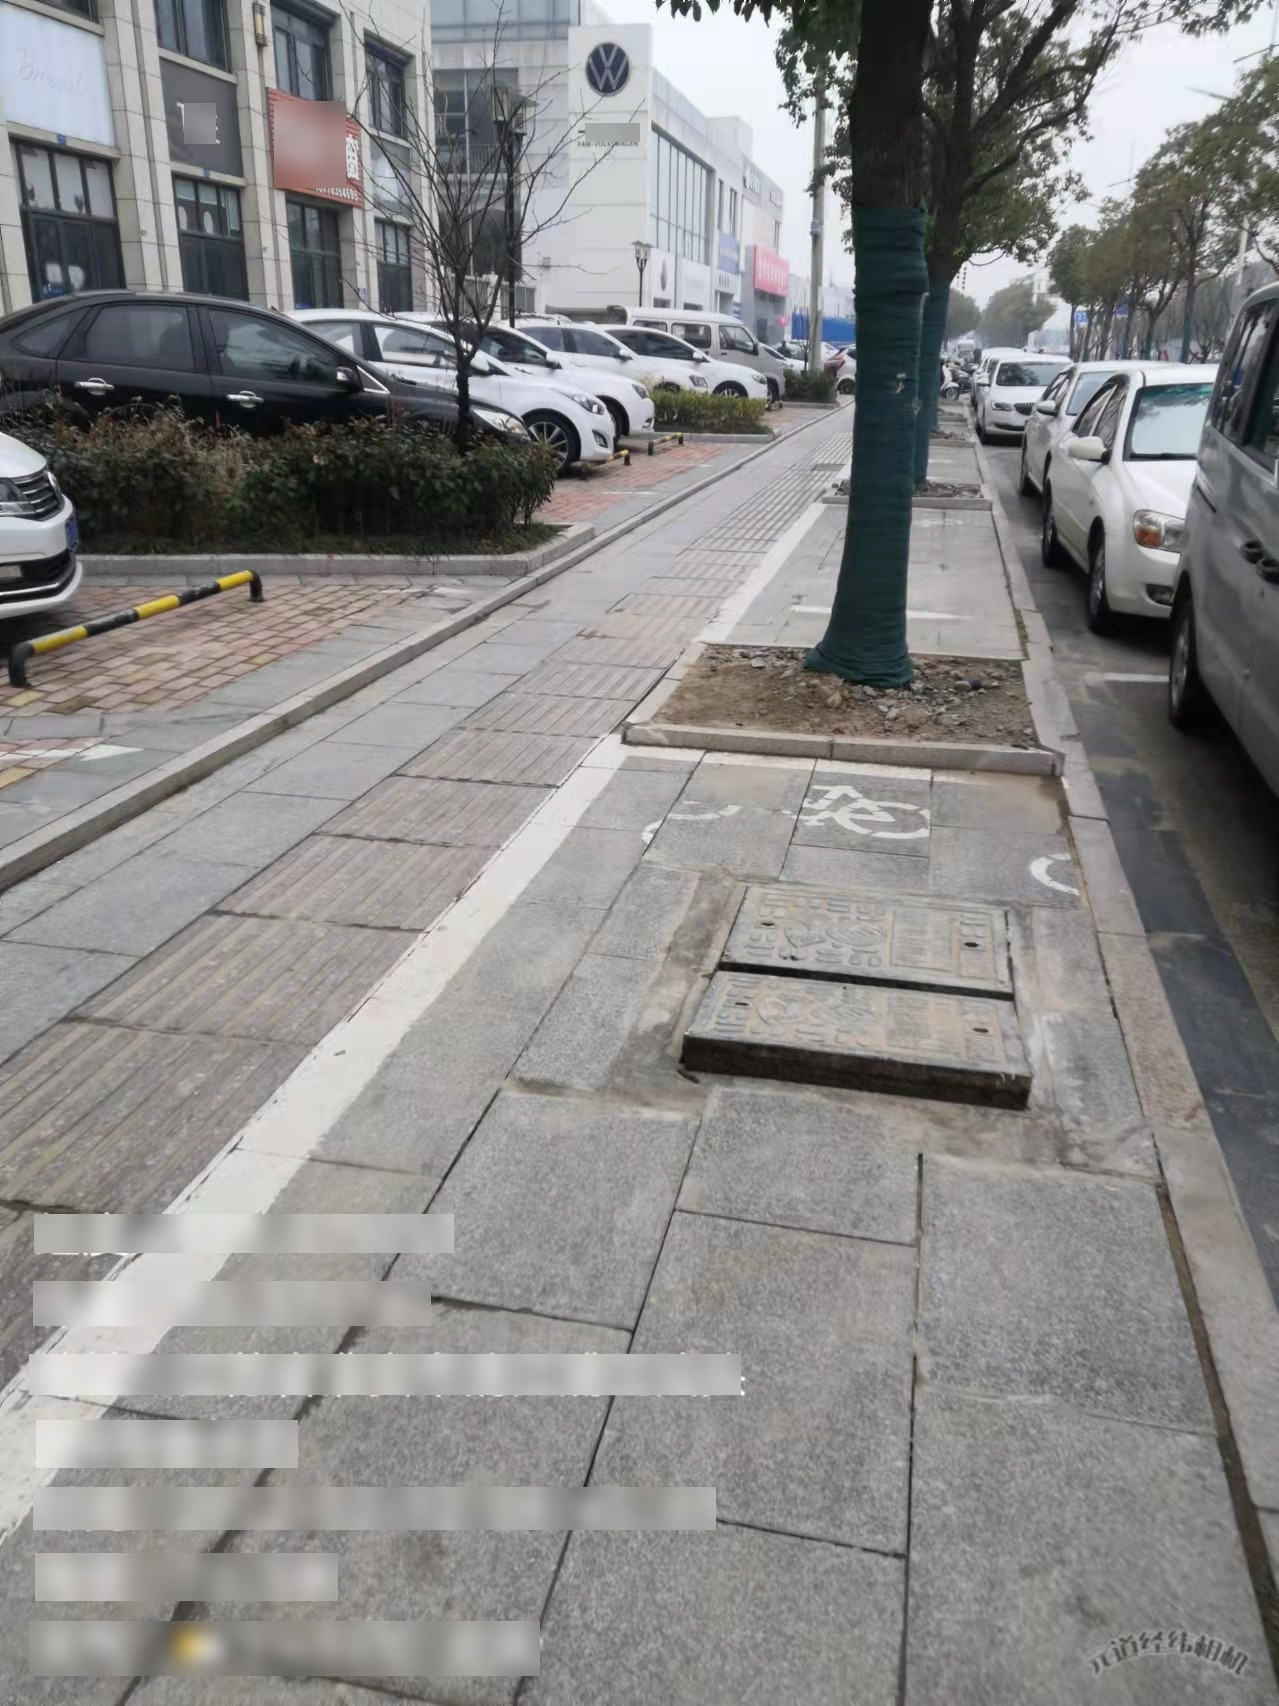well: (644, 881, 1047, 1123)
